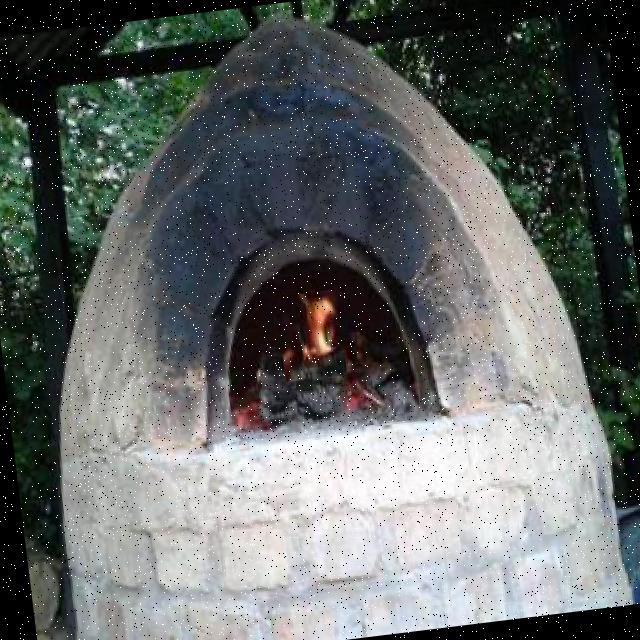fire: (275, 288, 347, 382)
